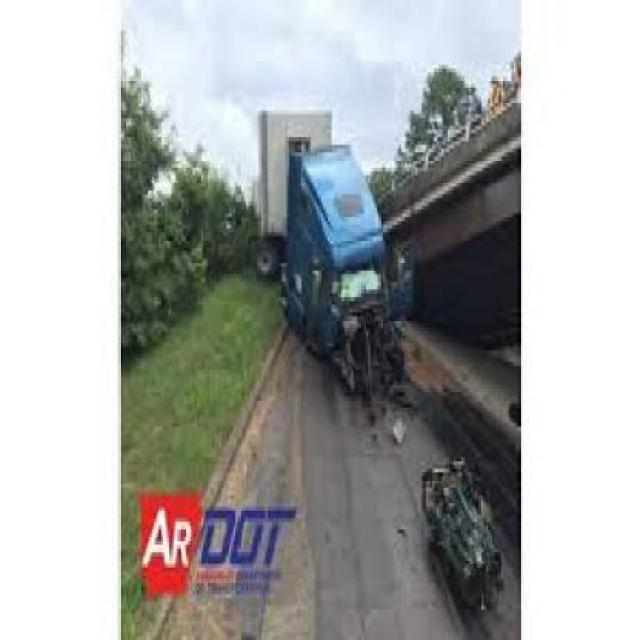accident: (251, 98, 416, 440)
